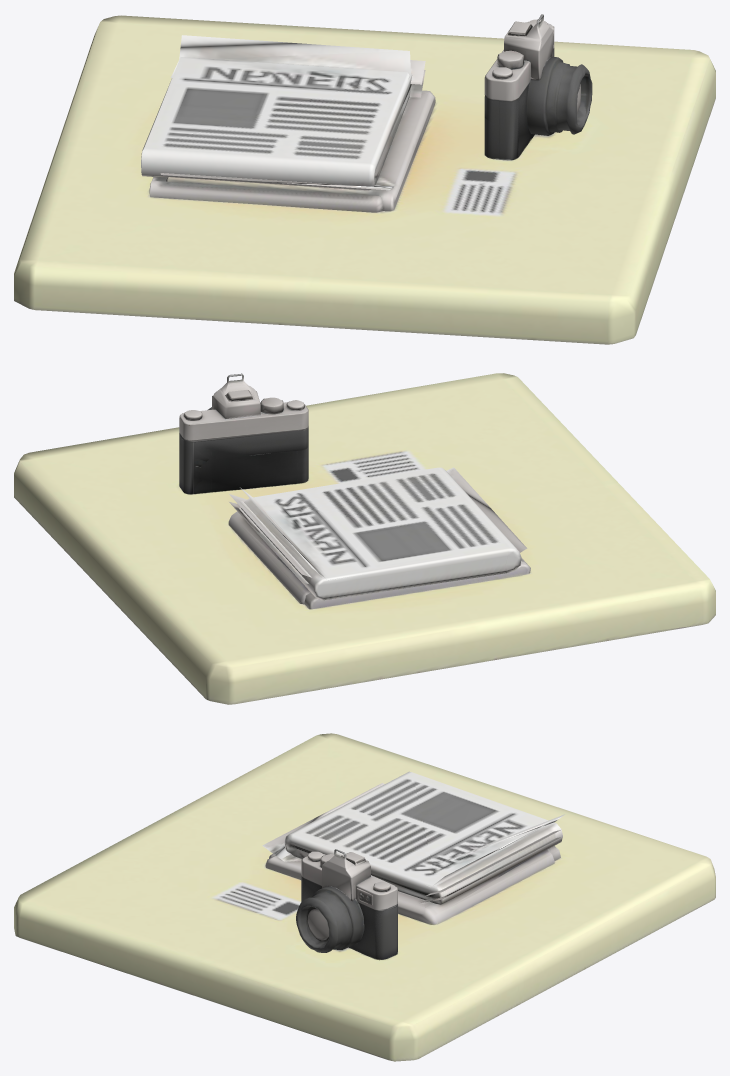
3 views of the same model, one above another, from view 1: azimuth 30°, elevation 25°; view 2: azimuth 150°, elevation 25°; view 3: azimuth 270°, elevation 25° (orthographic). The views are drawn at different scales.
Parts seen in each view (by area): view 1: tripo_node_d1f0c2e6-51b4-48da-bd14-3db242cc535b; view 2: tripo_node_d1f0c2e6-51b4-48da-bd14-3db242cc535b; view 3: tripo_node_d1f0c2e6-51b4-48da-bd14-3db242cc535b.
Boxes of the visible parts, box(x1,y1,x2,y2) form: tripo_node_d1f0c2e6-51b4-48da-bd14-3db242cc535b: box(14, 14, 715, 344); tripo_node_d1f0c2e6-51b4-48da-bd14-3db242cc535b: box(14, 373, 715, 704); tripo_node_d1f0c2e6-51b4-48da-bd14-3db242cc535b: box(14, 733, 715, 1061).
Bounding box in the file's own units: 1.35 × 0.2676 × 1.35.
1 material, 1 textured.
